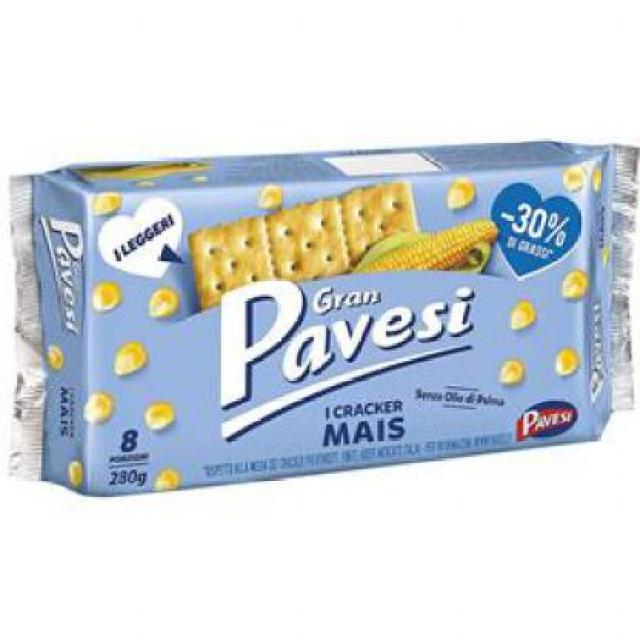Cracker: (8, 132, 638, 496)
